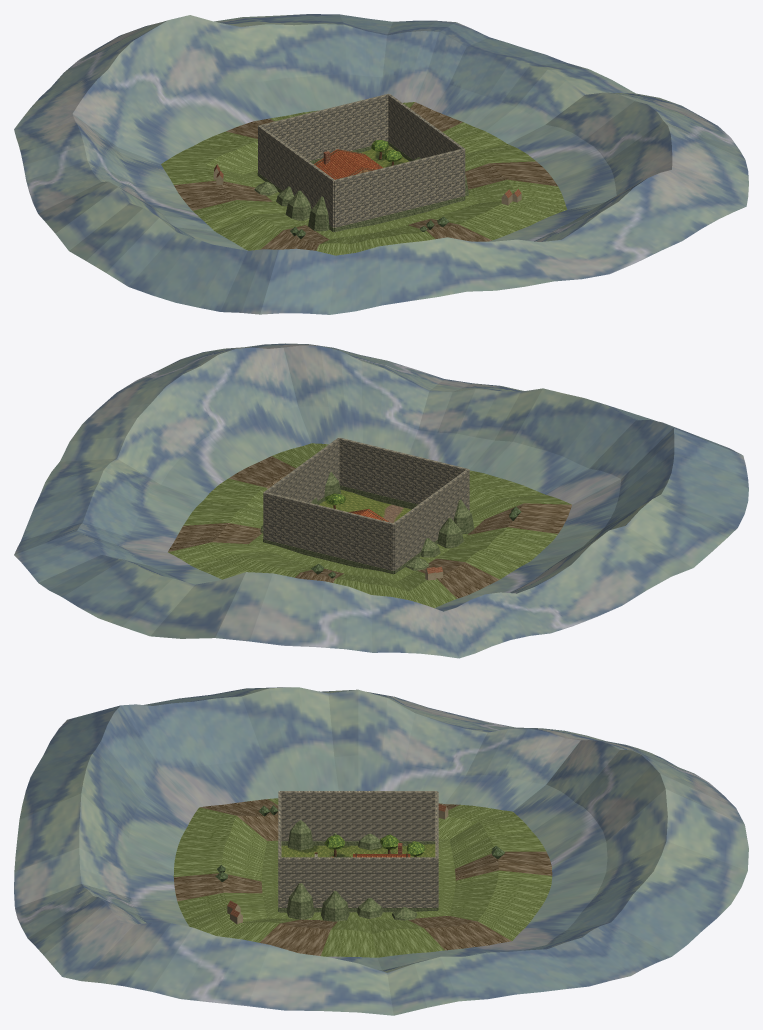
File: KettleYard.fbx
3 views of the same model, one above another, from view 1: azimuth 30°, elevation 25°; view 2: azimuth 150°, elevation 25°; view 3: azimuth 270°, elevation 25° (orthographic). The views are drawn at different scales.
Visible parts, largest first — view 1: Surroundings, C_Solids, Set, Horizon, Rim; view 2: Surroundings, C_Solids, Horizon, Rim, Terrain; view 3: Surroundings, C_Solids, Horizon, Terrain, Set, Rim.
Boxes of the visible parts, x1,y1,x2,y2 form: Surroundings: [14, 14, 748, 314]; C_Solids: [258, 93, 465, 227]; Set: [314, 140, 402, 179]; Horizon: [254, 157, 468, 231]; Rim: [257, 142, 465, 232]; Surroundings: [14, 343, 748, 658]; C_Solids: [263, 437, 469, 570]; Horizon: [260, 472, 474, 570]; Rim: [263, 485, 437, 574]; Terrain: [319, 490, 411, 522]; Surroundings: [14, 687, 748, 1015]; C_Solids: [278, 791, 438, 907]; Horizon: [286, 820, 417, 921]; Terrain: [281, 844, 435, 857]; Set: [314, 834, 424, 857]; Rim: [278, 841, 438, 912].
Size of the model in its own units: 19425 by 2536 by 19080.
